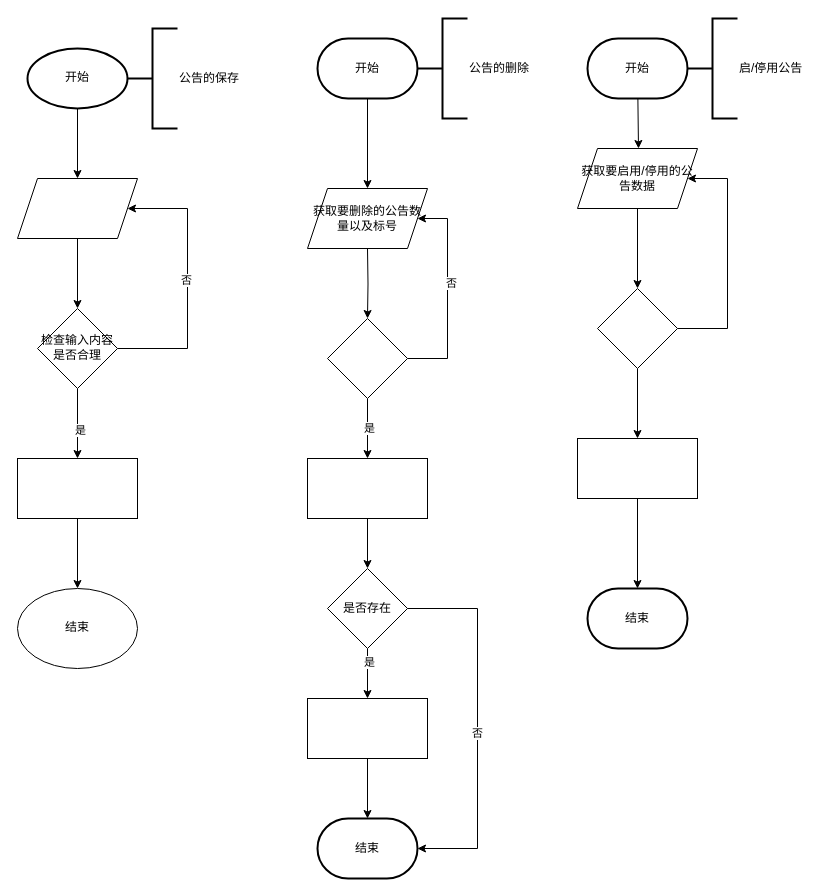
Some shapes in this 820 by 896 pixel diagram are drawn without their labels. Each missing label, with the centre of its shape:
"保存公告内容" belongs at [77,488].
"修改数据库中 公告状态" belongs at [637,468].
"删除公告" belongs at [367,728].
"数据是否正确" belongs at [637,328].
"是否合法" belongs at [367,358].
"查询数据库" belongs at [367,488].
"输入公告内容" belongs at [77,208].
